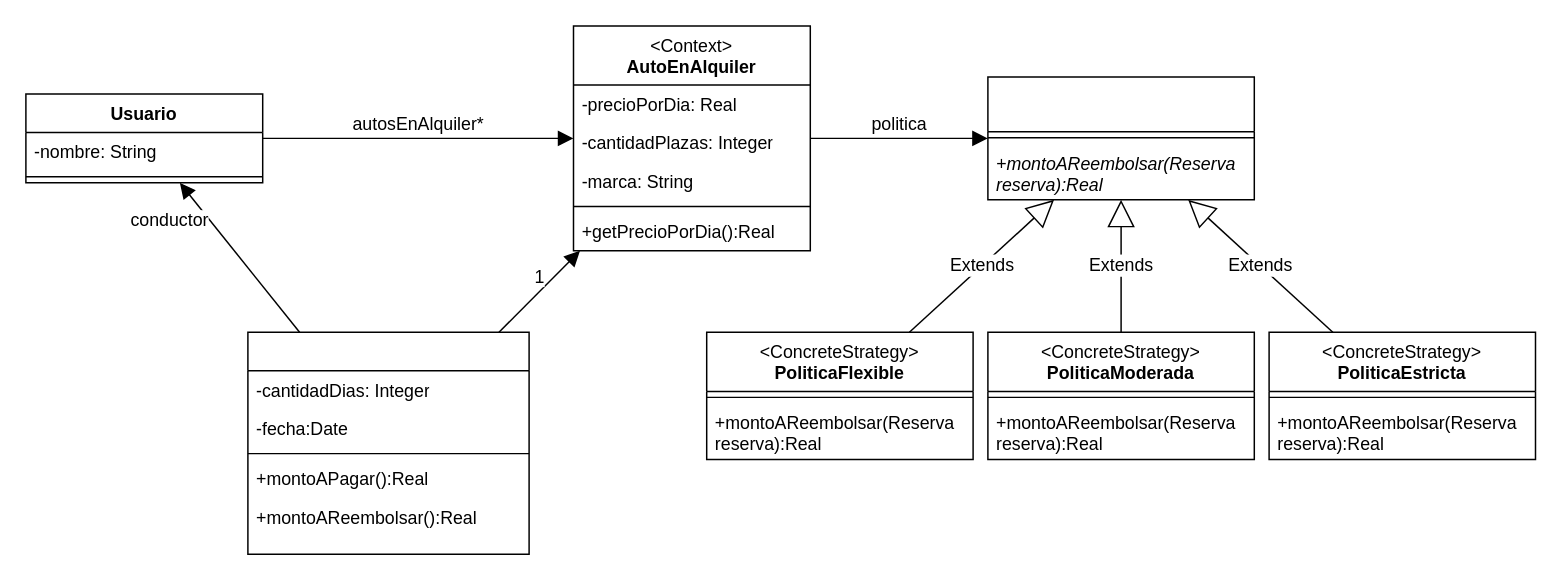
Some shapes in this 1561 by 585 pixel diagram are drawn without their labels. Here are the shapes that lost their labels. From the top down, the box of each, then its label:
(986, 75, 1254, 200): <Strategy> PoliticaCancelacion
(246, 331, 529, 554): Reserva
